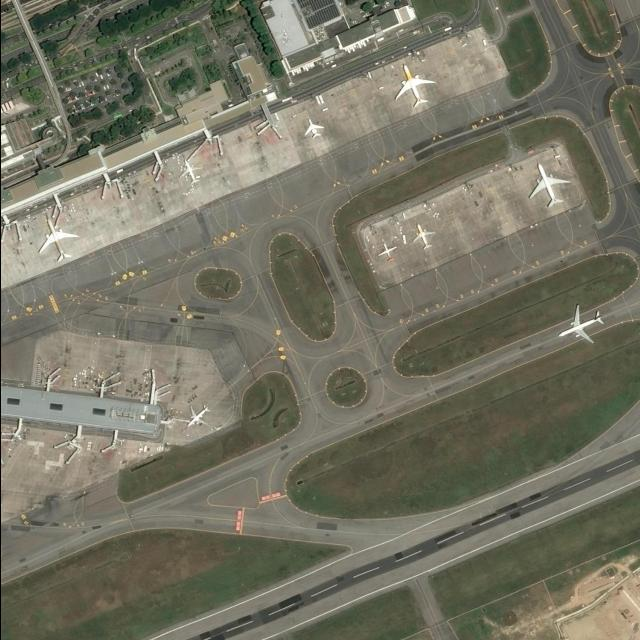Aircraft: (554, 305, 602, 347), (38, 215, 78, 263), (528, 162, 570, 207), (392, 64, 434, 108), (411, 222, 434, 250), (184, 404, 210, 428), (179, 159, 201, 185), (304, 117, 323, 140), (377, 242, 395, 261)
